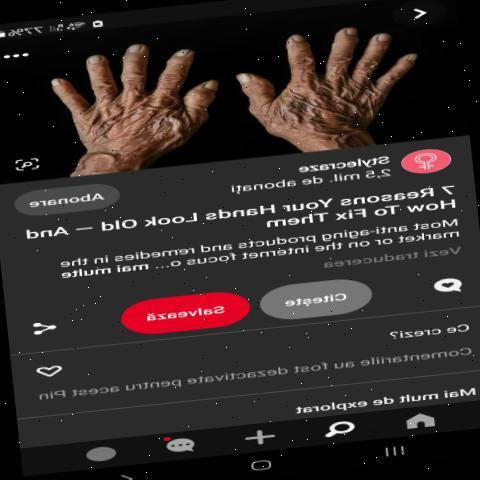Hands: (29, 14, 225, 166), (229, 5, 433, 146)
